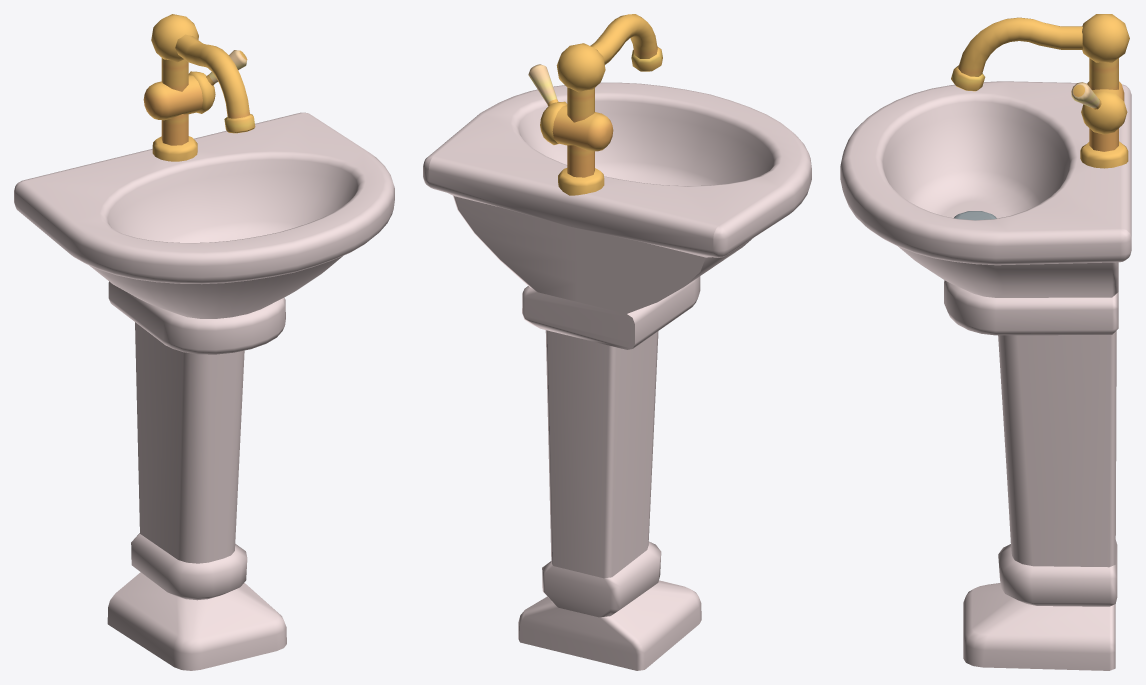
File: wash-basin-07.glb
3 views of the same model, side by side, from view 1: azimuth 30°, elevation 25°; view 2: azimuth 150°, elevation 25°; view 3: azimuth 270°, elevation 25° (orthographic). The views are drawn at different scales.
Parts seen in each view (by area): view 1: Wash_Basin_07; view 2: Wash_Basin_07; view 3: Wash_Basin_07.
Part boxes in pixels (x1,y1,x2,y2): Wash_Basin_07: [14, 14, 394, 670]; Wash_Basin_07: [423, 14, 811, 670]; Wash_Basin_07: [840, 14, 1131, 670].
Bounding box in the file's own units: 0.602 × 1.11 × 0.4668.
Materials: 1 (1 with a texture image).
